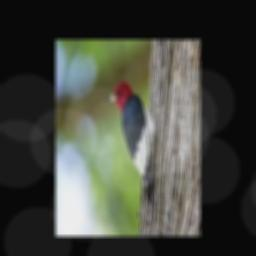Woodpecker: (105, 81, 161, 204)
